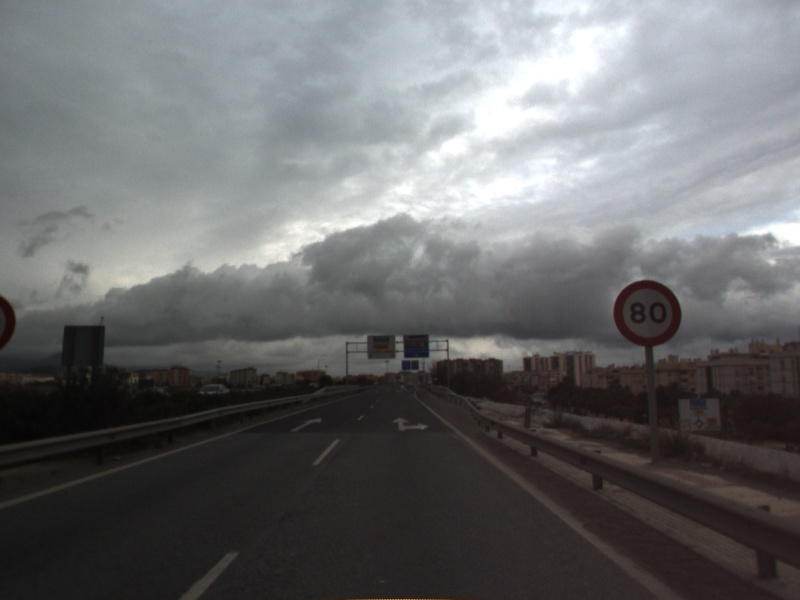STRAIGHT: (288, 414, 324, 434)
STRAIGHT_RIGHT: (390, 415, 431, 433)
